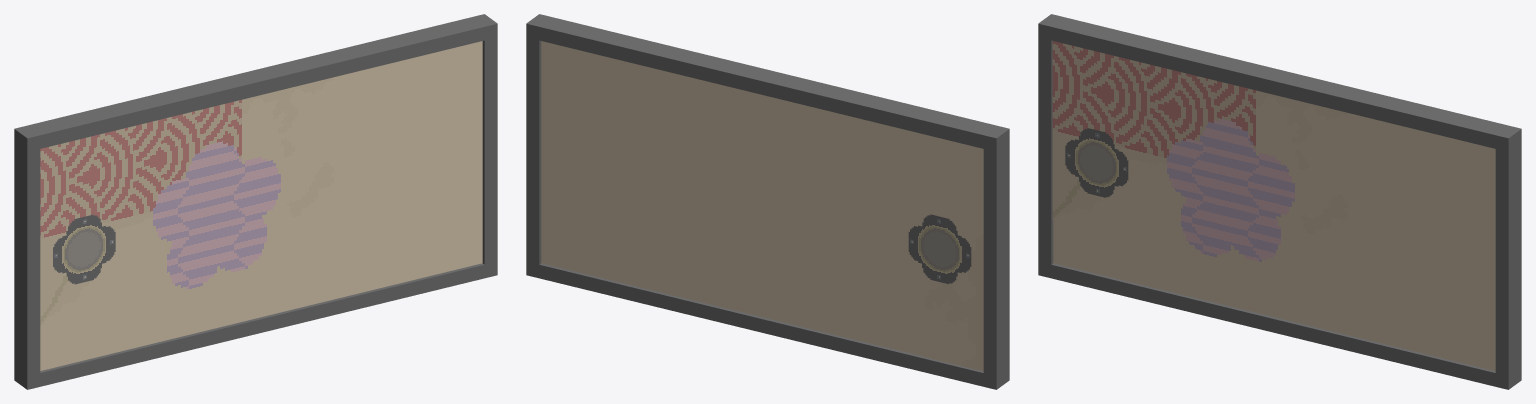
File: 04d6_Small_Sliding_Door.glb
3 renders of one model, left to right at view 1: azimuth 30°, elevation 25°; view 2: azimuth 150°, elevation 25°; view 3: azimuth 330°, elevation 25°, orthographic.
Parts seen in each view (by area): view 1: part_0; view 2: part_0; view 3: part_0.
Part boxes in pixels (<box>): part_0: <box>14,14,497,389</box>; part_0: <box>526,14,1009,389</box>; part_0: <box>1038,14,1521,389</box>.
Bounding box in the file's own units: 0.9 × 0.46 × 0.0437.
Materials: 1 (1 with a texture image).
